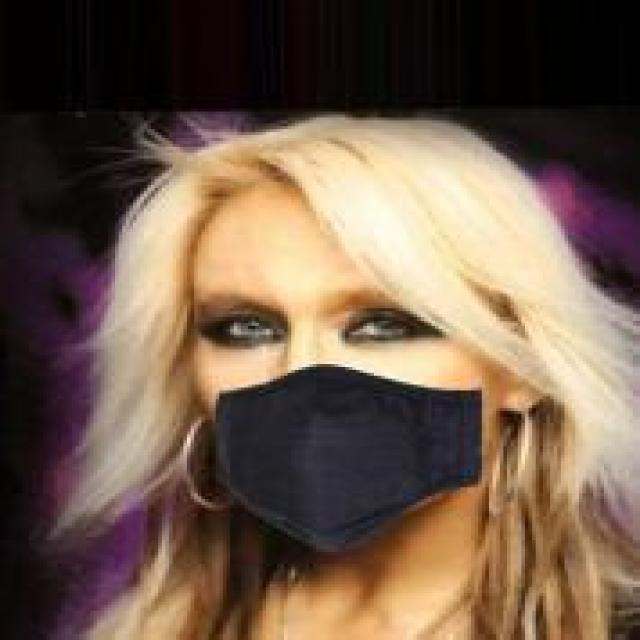mask: (126, 108, 532, 604)
